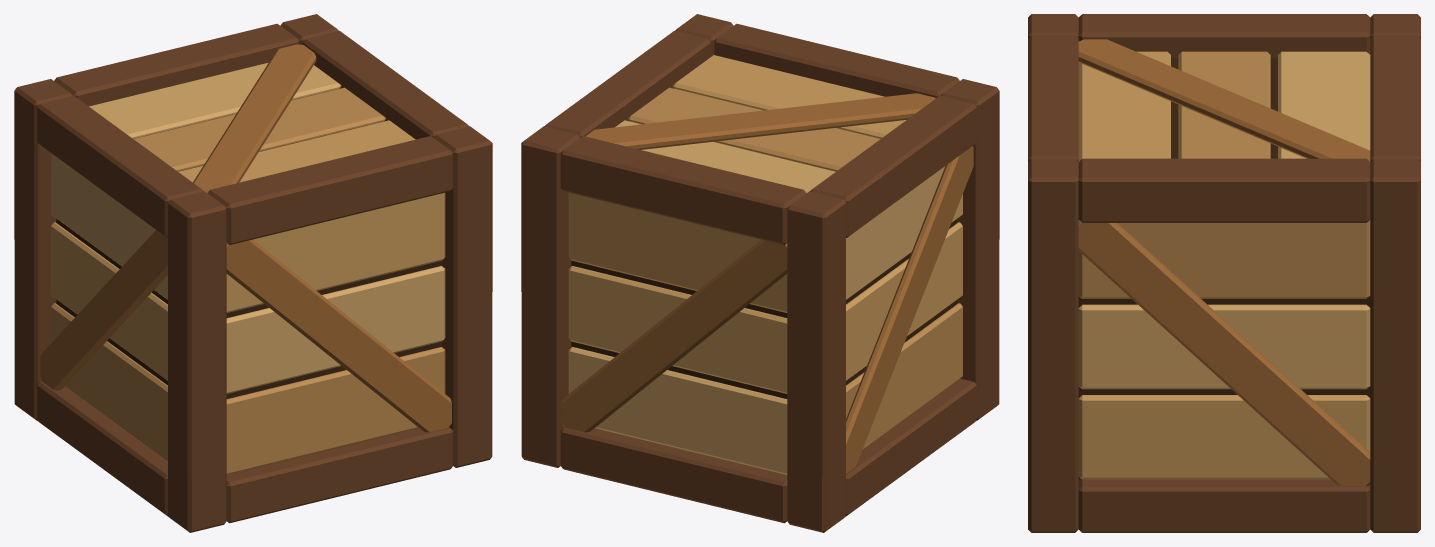
File: crate.glb
The picture shows the model from 3 angles, left to right: view 1: azimuth 30°, elevation 25°; view 2: azimuth 150°, elevation 25°; view 3: azimuth 270°, elevation 25°; orthographic projection. The views are drawn at different scales.
Parts seen in each view (by area): view 1: crate; view 2: crate; view 3: crate.
Part boxes in pixels (left/top/right/bottom): crate: left=14, top=14, right=492, bottom=532; crate: left=521, top=14, right=999, bottom=532; crate: left=1028, top=14, right=1420, bottom=532.
Bounding box in the file's own units: 0.6602 × 0.6602 × 0.6602.
